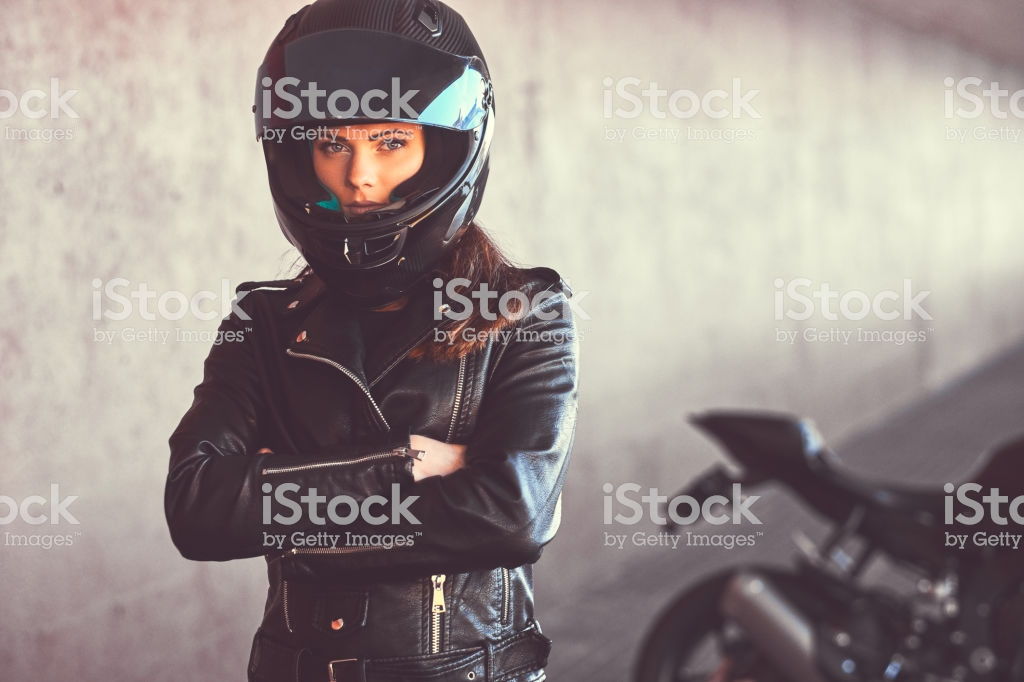helmet: (233, 8, 531, 267)
